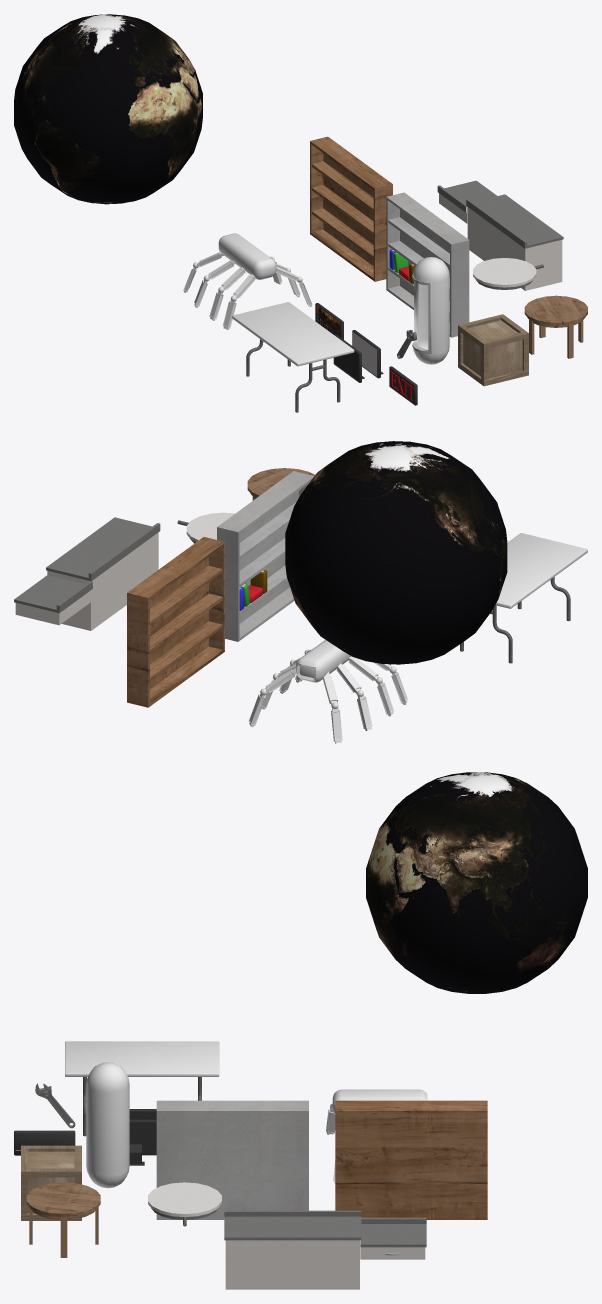
Rendered from Pod.FBX.
3 views of the same model, one above another, from view 1: azimuth 30°, elevation 25°; view 2: azimuth 150°, elevation 25°; view 3: azimuth 270°, elevation 25° (orthographic). The views are drawn at different scales.
Visible parts, largest first — view 1: DarkEarth, Bookcase001, Counter, Bookcase1, Table, Crate, Pod, Round Table, Hanging Table, ChamferBox003, ComputerOn, ComputerOff (+2 smaller); view 2: DarkEarth, Bookcase001, Counter, Bookcase1, Table, ChamferBox003, Hanging Table, Round Table, Box024, Box027, Box025, Box020; view 3: DarkEarth, Bookcase001, Bookcase1, Counter, Table, Pod, Round Table, Crate, Hanging Table, ComputerOn, ChamferBox003, Exit.
Boxes of the visible parts, x1,y1,x2,y2 form: DarkEarth: (14, 14, 202, 204); Bookcase001: (310, 136, 392, 281); Counter: (437, 180, 563, 290); Bookcase1: (386, 192, 469, 337); Table: (231, 302, 354, 412); Crate: (458, 314, 528, 386); Pod: (412, 257, 449, 364); Round Table: (524, 295, 587, 358); Hanging Table: (473, 258, 543, 289); ChamferBox003: (218, 233, 276, 279); ComputerOn: (352, 330, 383, 378); ComputerOff: (333, 334, 364, 382); DarkEarth: (285, 441, 507, 664); Bookcase001: (127, 537, 224, 707); Counter: (14, 517, 160, 630); Bookcase1: (217, 471, 314, 641); Table: (460, 533, 587, 663); ChamferBox003: (296, 640, 351, 682); Hanging Table: (177, 512, 235, 543); Round Table: (247, 468, 314, 500); Box024: (336, 663, 372, 730); Box027: (323, 671, 342, 743); Box025: (348, 656, 393, 716); Box020: (248, 668, 296, 726); DarkEarth: (366, 772, 587, 993); Bookcase001: (335, 1100, 487, 1219); Bookcase1: (156, 1100, 308, 1219); Counter: (224, 1210, 426, 1289); Table: (65, 1041, 219, 1136); Pod: (86, 1062, 129, 1188); Round Table: (26, 1182, 100, 1257); Crate: (21, 1145, 81, 1220); Hanging Table: (148, 1182, 221, 1226); ComputerOn: (129, 1119, 156, 1165); ChamferBox003: (332, 1089, 427, 1114); Exit: (14, 1130, 75, 1155).
Bounding box in the file's own units: 190 × 116 × 188.
